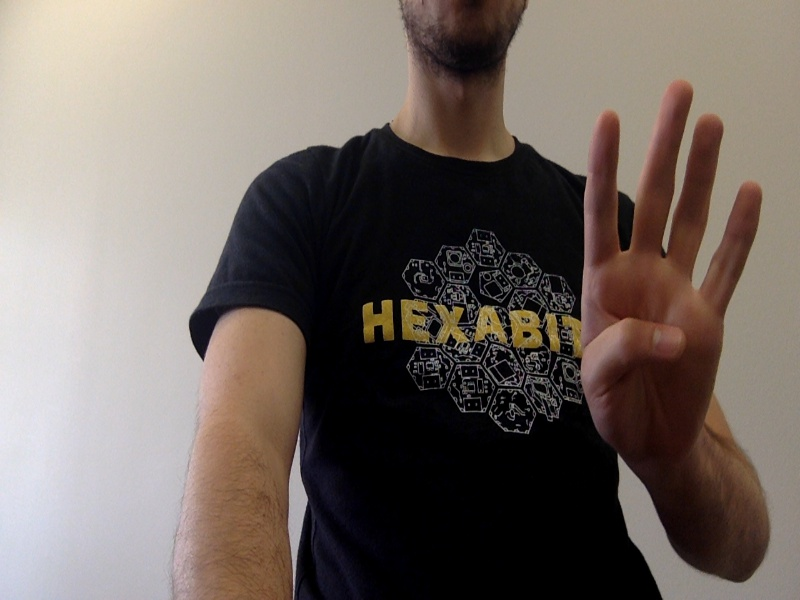4-hand: (584, 82, 765, 450)
